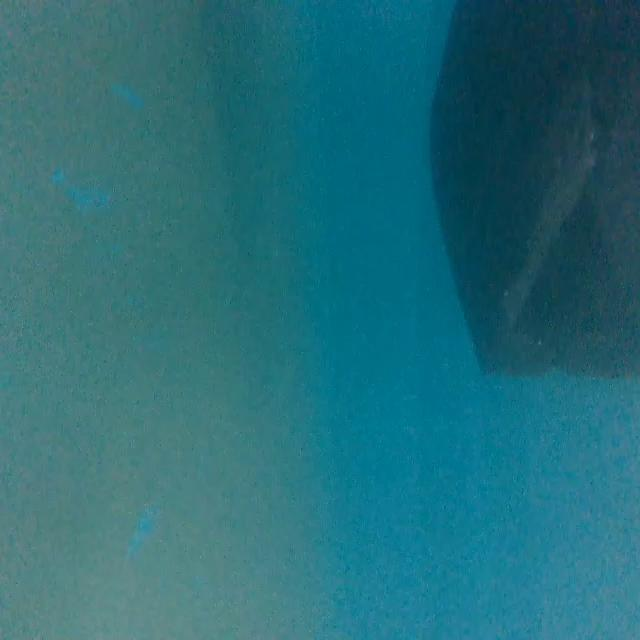plastic bags: (430, 0, 640, 387)
